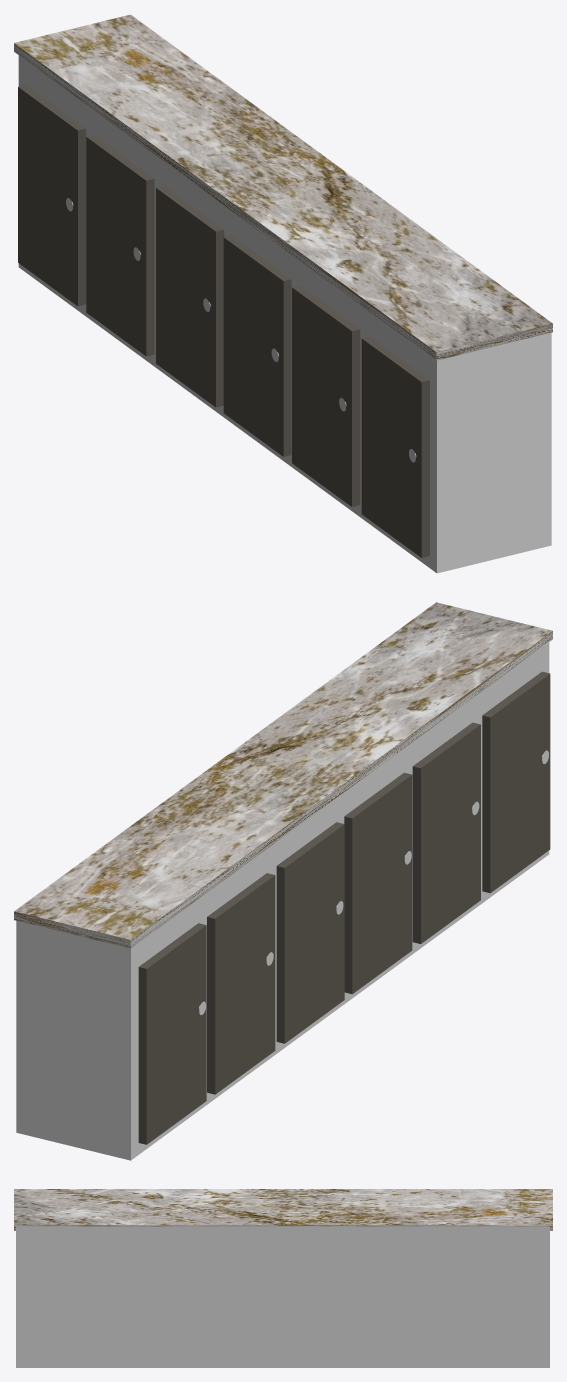
File: Larger Cabinets.fbx
3 renders of one model, top to bottom at view 1: azimuth 30°, elevation 25°; view 2: azimuth 150°, elevation 25°; view 3: azimuth 270°, elevation 25°, orthographic. The views are drawn at different scales.
Parts seen in each view (by area): view 1: pCube43, pCube42 (×2), pCube45 (×2), pCube44 (×2), pCube46 (×2); view 2: pCube43, pCube42 (×2), pCube45 (×2), pCube44 (×2), pCube46 (×2); view 3: pCube42 (×2), pCube43.
Boxes of the visible parts, bbox=[...] form: pCube43: bbox=[14, 14, 552, 360]; pCube42 (×2): bbox=[18, 55, 551, 573]; pCube45 (×2): bbox=[86, 135, 360, 506]; pCube44 (×2): bbox=[18, 85, 291, 456]; pCube46 (×2): bbox=[156, 186, 429, 557]; pCube43: bbox=[14, 602, 552, 948]; pCube42 (×2): bbox=[16, 642, 549, 1160]; pCube45 (×2): bbox=[207, 722, 480, 1094]; pCube44 (×2): bbox=[138, 772, 412, 1144]; pCube46 (×2): bbox=[276, 671, 550, 1043]; pCube42 (×2): bbox=[16, 1226, 549, 1367]; pCube43: bbox=[14, 1189, 552, 1230].
Size of the model in its own units: 2.12 by 3.62 by 12.41.
3 materials, 1 textured.
